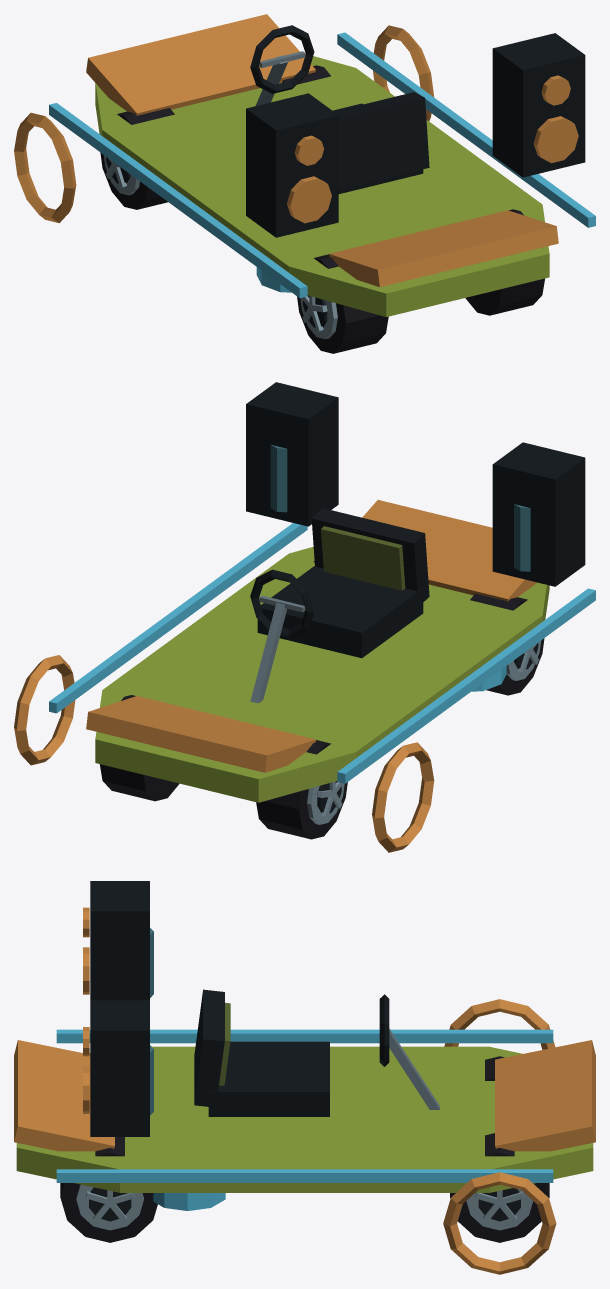
The model's file is kart.glb.
3 views of the same model, one above another, from view 1: azimuth 30°, elevation 25°; view 2: azimuth 150°, elevation 25°; view 3: azimuth 270°, elevation 25° (orthographic).
Visible parts, largest first — view 1: identity-hoverboard-hoverboard-turned-up-deck, identity-hoverboard-motif-speakers, identity-hoverboard-motif-neon, identity-hoverboard-driver-cockpit, wheel-rear-left, wheel-front-left, wheel-rear-right; view 2: identity-hoverboard-hoverboard-turned-up-deck, identity-hoverboard-motif-speakers, identity-hoverboard-driver-cockpit, identity-hoverboard-motif-neon, wheel-front-left, identity-hoverboard-motif-bottles, wheel-rear-left, wheel-front-right; view 3: identity-hoverboard-hoverboard-turned-up-deck, identity-hoverboard-motif-neon, identity-hoverboard-motif-speakers, identity-hoverboard-driver-cockpit, wheel-rear-right, wheel-front-right, identity-hoverboard-motif-bottles.
Boxes of the visible parts, x1,y1,x2,y2 form: identity-hoverboard-hoverboard-turned-up-deck: (86, 14, 558, 316); identity-hoverboard-motif-speakers: (246, 33, 585, 237); identity-hoverboard-motif-neon: (14, 25, 595, 297); identity-hoverboard-driver-cockpit: (250, 25, 429, 193); wheel-rear-left: (297, 254, 388, 353); wheel-front-left: (100, 108, 174, 209); wheel-rear-right: (465, 209, 544, 315); identity-hoverboard-hoverboard-turned-up-deck: (86, 500, 549, 802); identity-hoverboard-motif-speakers: (246, 382, 585, 586); identity-hoverboard-driver-cockpit: (250, 508, 429, 703); identity-hoverboard-motif-neon: (14, 523, 595, 852); wheel-front-left: (256, 740, 347, 839); identity-hoverboard-motif-bottles: (270, 445, 530, 571); wheel-rear-left: (470, 593, 544, 695); wheel-front-right: (99, 695, 179, 801); identity-hoverboard-hoverboard-turned-up-deck: (14, 1040, 595, 1210); identity-hoverboard-motif-neon: (56, 999, 556, 1274); identity-hoverboard-motif-speakers: (83, 881, 149, 1136); identity-hoverboard-driver-cockpit: (194, 989, 439, 1116); wheel-rear-right: (60, 1137, 157, 1242); wheel-front-right: (450, 1133, 549, 1242); identity-hoverboard-motif-bottles: (150, 928, 153, 1115).
Bounding box in the file's own units: 2.13 × 1.33 × 2.93.
